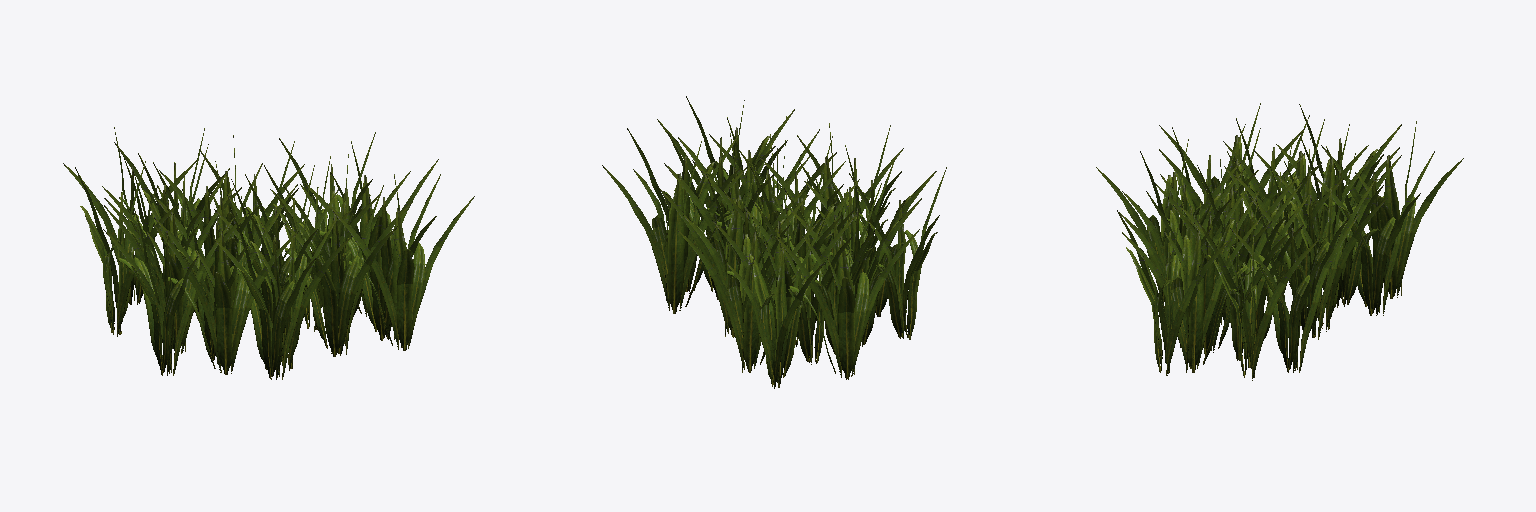
3 views of the same model, side by side, from view 1: azimuth 30°, elevation 25°; view 2: azimuth 150°, elevation 25°; view 3: azimuth 270°, elevation 25° (orthographic).
Visible parts, largest first — view 1: Plane.016_Plane.025, Plane.008_Plane.017, Plane.003_Plane.012, Plane.007_Plane.016, Plane.025_Plane.034, Plane.024_Plane.033, Plane.009_Plane.018, Plane.006_Plane.015, Plane.019_Plane.028, Plane.004_Plane.013, Plane.017_Plane.026, Plane.010_Plane.019 (+14 smaller); view 2: Plane.024_Plane.033, Plane.012_Plane.021, Plane.011_Plane.020, Plane.013_Plane.022, Plane.025_Plane.034, Plane.023_Plane.032, Plane.010_Plane.019, Plane.015_Plane.024, Plane.018_Plane.027, Plane.019_Plane.028, Plane.014_Plane.023, Plane.016_Plane.025 (+14 smaller); view 3: Plane.009_Plane.018, Plane.011_Plane.020, Plane.013_Plane.022, Plane.008_Plane.017, Plane.010_Plane.019, Plane.012_Plane.021, Plane.015_Plane.024, Plane.002_Plane.011, Plane.022_Plane.031, Plane.014_Plane.023, Plane.007_Plane.016, Plane.000_Plane.009 (+14 smaller).
Boxes of the visible parts, box(x1,y1,x2,y2) form: Plane.016_Plane.025: box(153, 196, 298, 374); Plane.008_Plane.017: box(333, 174, 474, 350); Plane.003_Plane.012: box(275, 185, 397, 356); Plane.007_Plane.016: box(213, 207, 337, 379); Plane.025_Plane.034: box(103, 202, 234, 375); Plane.024_Plane.033: box(75, 161, 178, 336); Plane.009_Plane.018: box(327, 172, 440, 340); Plane.006_Plane.015: box(244, 192, 352, 370); Plane.019_Plane.028: box(104, 182, 249, 353); Plane.004_Plane.013: box(214, 179, 338, 338); Plane.017_Plane.026: box(154, 189, 284, 363); Plane.010_Plane.019: box(304, 141, 438, 316); Plane.024_Plane.033: box(774, 200, 919, 379); Plane.012_Plane.021: box(726, 216, 825, 388); Plane.011_Plane.020: box(602, 141, 747, 313); Plane.013_Plane.022: box(677, 198, 820, 372); Plane.025_Plane.034: box(849, 167, 946, 339); Plane.023_Plane.032: box(752, 189, 851, 364); Plane.010_Plane.019: box(627, 128, 742, 293); Plane.015_Plane.024: box(660, 164, 806, 337); Plane.018_Plane.027: box(784, 183, 881, 353); Plane.019_Plane.028: box(790, 172, 921, 346); Plane.014_Plane.023: box(683, 174, 808, 308); Plane.016_Plane.025: box(804, 145, 936, 316); Plane.009_Plane.018: box(1122, 203, 1262, 372); Plane.011_Plane.020: box(1230, 200, 1359, 372); Plane.013_Plane.022: box(1314, 146, 1434, 315); Plane.008_Plane.017: box(1117, 198, 1231, 375); Plane.010_Plane.019: box(1195, 208, 1319, 380); Plane.012_Plane.021: box(1321, 121, 1463, 298); Plane.015_Plane.024: box(1248, 166, 1375, 339); Plane.002_Plane.011: box(1146, 191, 1271, 354); Plane.022_Plane.031: box(1276, 134, 1401, 307); Plane.014_Plane.023: box(1284, 153, 1387, 331); Plane.007_Plane.016: box(1096, 139, 1241, 307); Plane.000_Plane.009: box(1194, 181, 1309, 340).
Size of the model in its own units: 4.79 by 2.08 by 4.7.
1 materials, 1 textured.